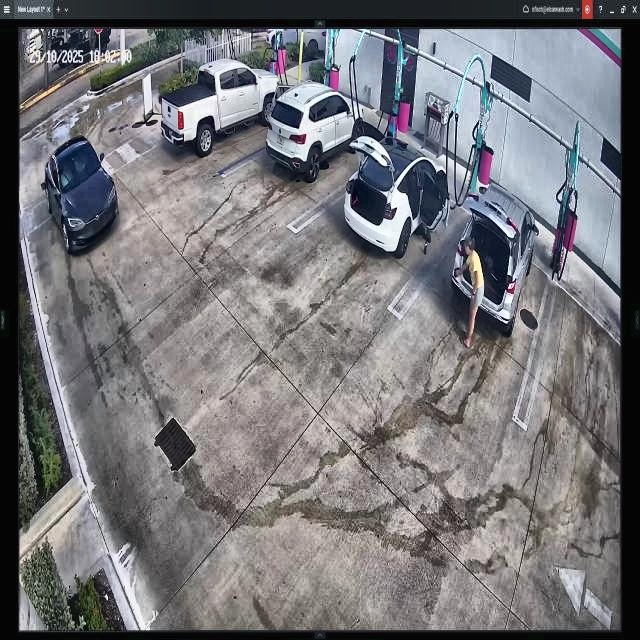Car: (342, 135, 447, 263), (452, 179, 536, 335), (162, 57, 280, 155), (268, 80, 363, 178)
